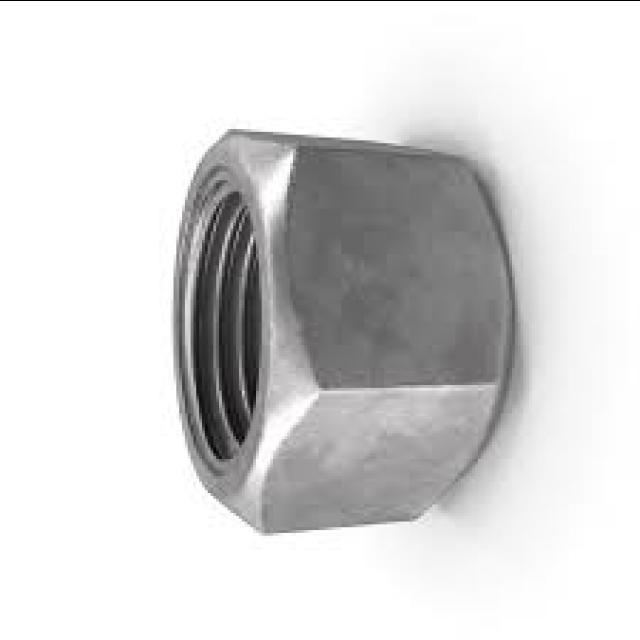nut: (173, 127, 514, 533)
